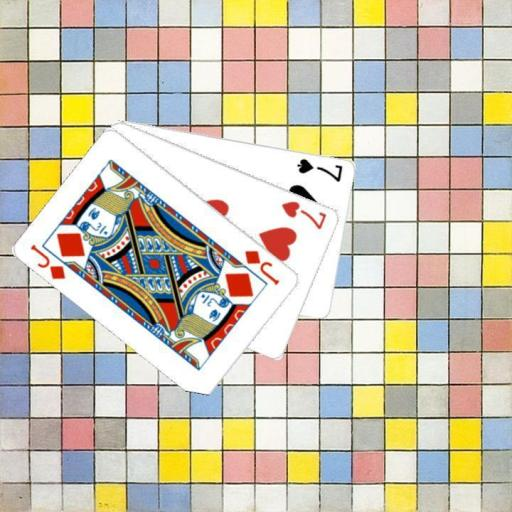card-corner: (278, 198, 329, 231), (27, 241, 68, 281), (242, 246, 282, 286), (294, 155, 345, 183)
